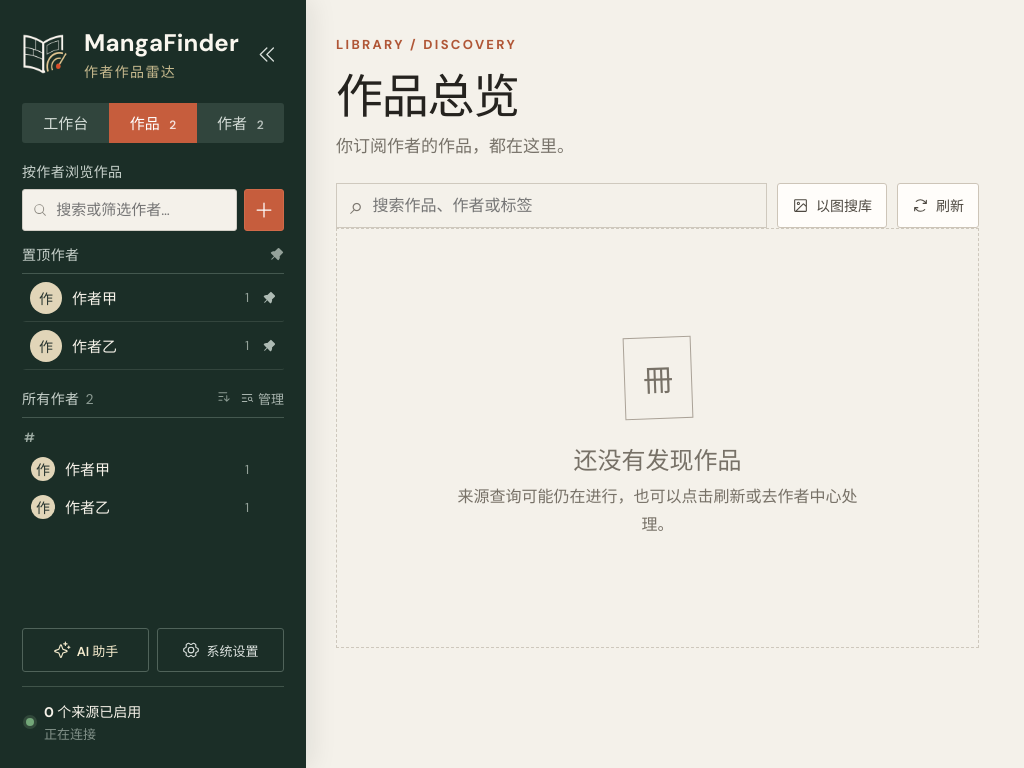
Scenario: catalog views › ignores late results from the previously selected author
Click the button "作 作者乙 1" below "置顶作者".
click(141, 346)  # box [26,324,256,366]
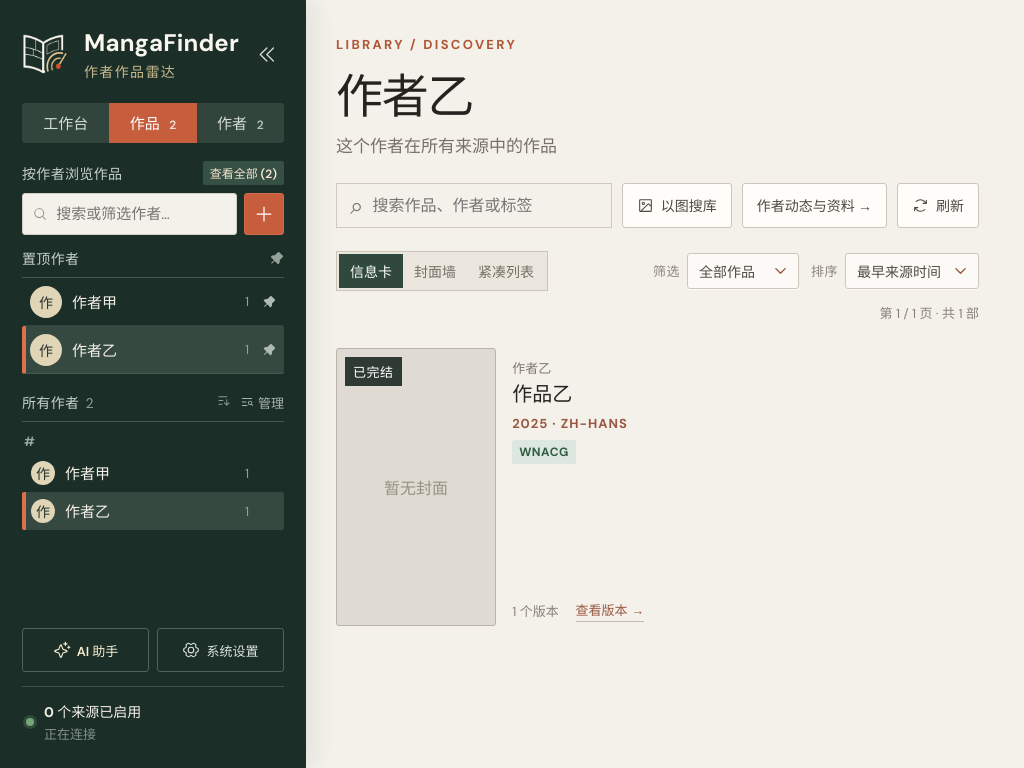
Check: the heading "作品乙" is shown, box [512,383,572,405]
